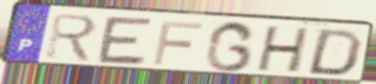D: (303, 28, 366, 78)
E: (94, 15, 156, 67)
F: (150, 19, 205, 67)
G: (202, 20, 258, 74)
H: (254, 25, 313, 75)
R: (44, 12, 100, 64)
